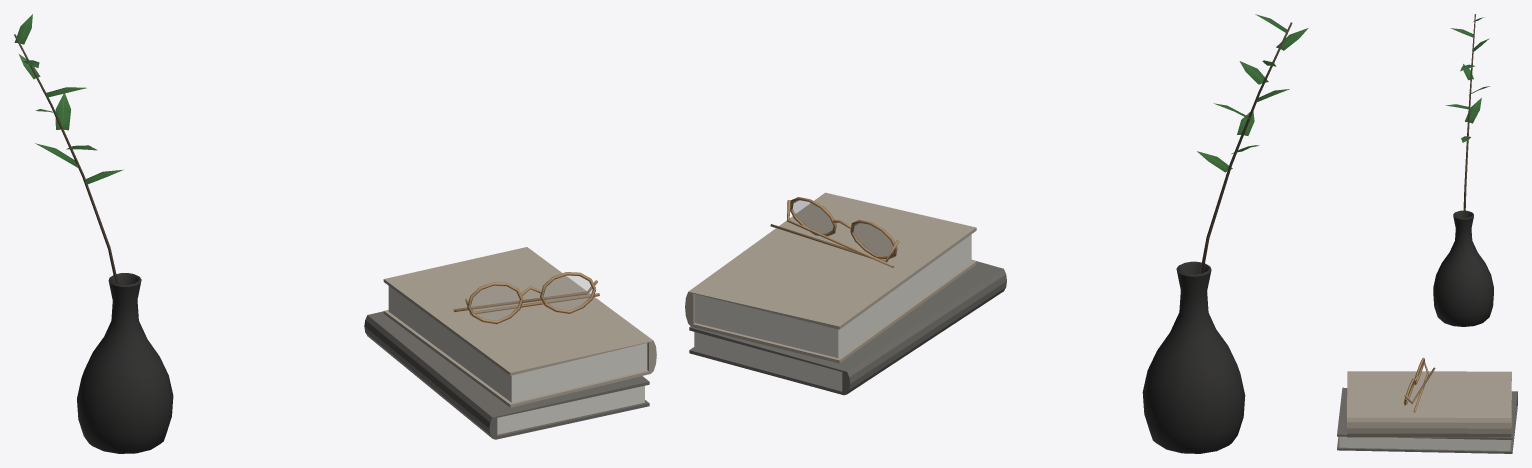
The model's file is decor_d_nightstand.gltf.
3 views of the same model, side by side, from view 1: azimuth 30°, elevation 25°; view 2: azimuth 150°, elevation 25°; view 3: azimuth 270°, elevation 25° (orthographic). The views are drawn at different scales.
Visible parts, largest first — view 1: DecorD_Nightstand_Book02_Oat_NoCollide, DecorD_Nightstand_Vase01_Charcoal_NoCollide, DecorD_Nightstand_Book01_StoneFabric_NoCollide, DecorD_Nightstand_Book02_Paper_NoCollide, DecorD_Nightstand_Book01_Paper_NoCollide, DecorD_Nightstand_Spectacles01_Glass_NoCollide, DecorD_Nightstand_Spectacles01_Bronze_NoCollide, DecorD_Nightstand_Leaf_NoCollide, DecorD_Nightstand_Bark_NoCollide; view 2: DecorD_Nightstand_Book02_Oat_NoCollide, DecorD_Nightstand_Vase01_Charcoal_NoCollide, DecorD_Nightstand_Book01_StoneFabric_NoCollide, DecorD_Nightstand_Book02_Paper_NoCollide, DecorD_Nightstand_Book01_Paper_NoCollide, DecorD_Nightstand_Spectacles01_Bronze_NoCollide, DecorD_Nightstand_Spectacles01_Glass_NoCollide, DecorD_Nightstand_Leaf_NoCollide, DecorD_Nightstand_Bark_NoCollide; view 3: DecorD_Nightstand_Book02_Oat_NoCollide, DecorD_Nightstand_Vase01_Charcoal_NoCollide, DecorD_Nightstand_Book01_Paper_NoCollide, DecorD_Nightstand_Book01_StoneFabric_NoCollide, DecorD_Nightstand_Leaf_NoCollide, DecorD_Nightstand_Spectacles01_Bronze_NoCollide, DecorD_Nightstand_Bark_NoCollide.
Boxes of the visible parts, x1,y1,x2,y2 form: DecorD_Nightstand_Book02_Oat_NoCollide: (383,247,656,407); DecorD_Nightstand_Vase01_Charcoal_NoCollide: (77,273,173,453); DecorD_Nightstand_Book01_StoneFabric_NoCollide: (364,311,649,439); DecorD_Nightstand_Book02_Paper_NoCollide: (388,286,647,402); DecorD_Nightstand_Book01_Paper_NoCollide: (497,385,644,434); DecorD_Nightstand_Spectacles01_Glass_NoCollide: (471,276,592,320); DecorD_Nightstand_Spectacles01_Bronze_NoCollide: (453,272,599,324); DecorD_Nightstand_Leaf_NoCollide: (14,14,123,184); DecorD_Nightstand_Bark_NoCollide: (14,34,118,284); DecorD_Nightstand_Book02_Oat_NoCollide: (685,192,976,363); DecorD_Nightstand_Vase01_Charcoal_NoCollide: (1142,261,1245,453); DecorD_Nightstand_Book01_StoneFabric_NoCollide: (689,260,1006,395); DecorD_Nightstand_Book02_Paper_NoCollide: (695,234,971,357); DecorD_Nightstand_Book01_Paper_NoCollide: (694,332,842,389); DecorD_Nightstand_Spectacles01_Bronze_NoCollide: (770,197,899,267); DecorD_Nightstand_Spectacles01_Glass_NoCollide: (793,200,893,255); DecorD_Nightstand_Leaf_NoCollide: (1197,14,1308,172); DecorD_Nightstand_Bark_NoCollide: (1199,22,1292,273); DecorD_Nightstand_Book02_Oat_NoCollide: (1347,371,1511,437); DecorD_Nightstand_Vase01_Charcoal_NoCollide: (1433,210,1493,326); DecorD_Nightstand_Book01_Paper_NoCollide: (1339,436,1511,450); DecorD_Nightstand_Book01_StoneFabric_NoCollide: (1337,387,1517,453); DecorD_Nightstand_Leaf_NoCollide: (1445,17,1490,142); DecorD_Nightstand_Spectacles01_Bronze_NoCollide: (1404,357,1435,412); DecorD_Nightstand_Bark_NoCollide: (1463,14,1475,218).
Size of the model in its own units: 0.5404 by 0.4077 by 0.2421.
8 materials, 1 textured.
